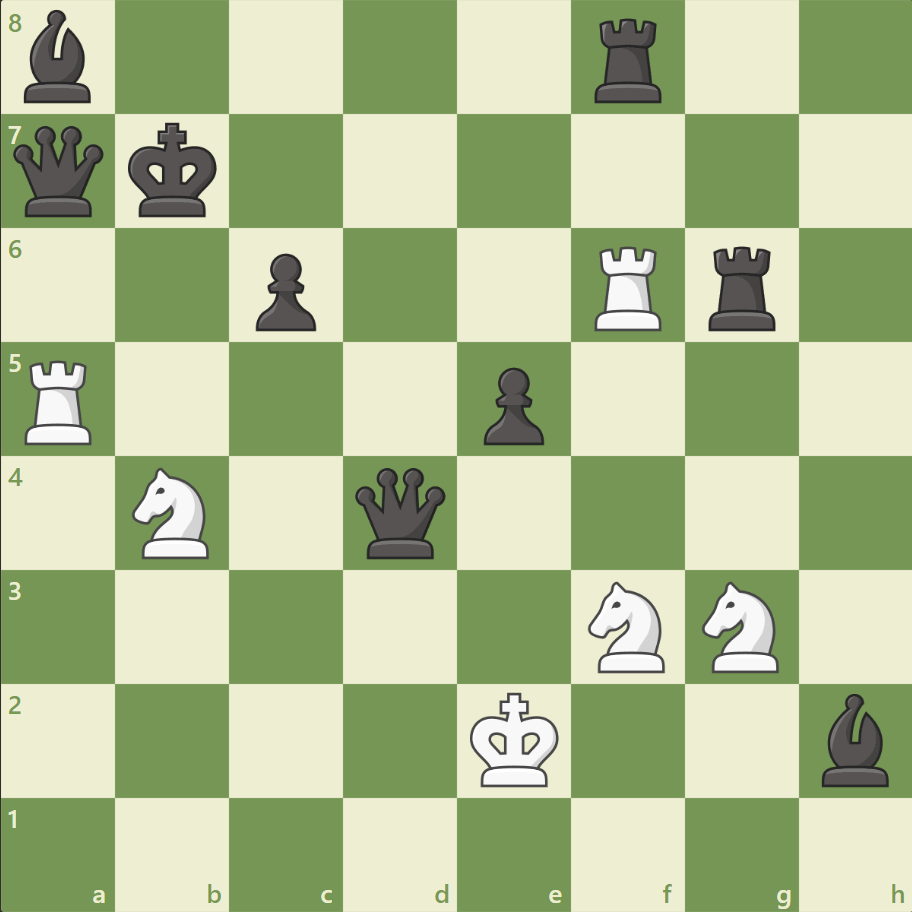K: (465, 685, 565, 793)
N: (124, 461, 222, 564), (579, 575, 676, 677), (692, 575, 789, 677)
R: (587, 239, 670, 336), (19, 352, 102, 449)
b: (17, 6, 101, 109), (812, 687, 896, 790)
k: (124, 117, 224, 225)
p: (247, 246, 322, 337), (474, 359, 549, 450)
q: (10, 122, 109, 222), (351, 463, 450, 562)
r: (587, 12, 670, 109), (700, 239, 783, 336)
